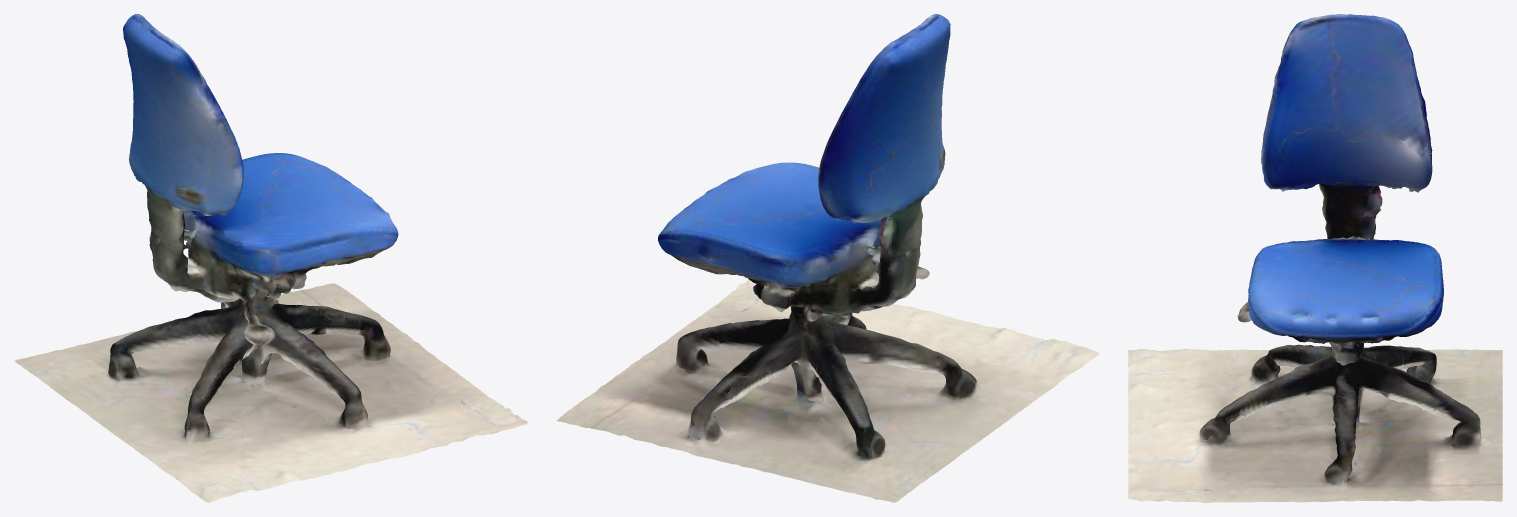
File: office_chair.glb
The picture shows the model from 3 angles, left to right: view 1: azimuth 30°, elevation 25°; view 2: azimuth 150°, elevation 25°; view 3: azimuth 270°, elevation 25°; orthographic projection. The views are drawn at different scales.
Visible parts, largest first — view 1: Object_4; view 2: Object_4; view 3: Object_4.
Boxes of the visible parts, <box> form: Object_4: <box>14,14,527,502</box>; Object_4: <box>556,14,1099,502</box>; Object_4: <box>1128,14,1502,502</box>.
Bounding box in the file's own units: 0.8588 × 0.9687 × 0.9.
Materials: 1 (1 with a texture image).
